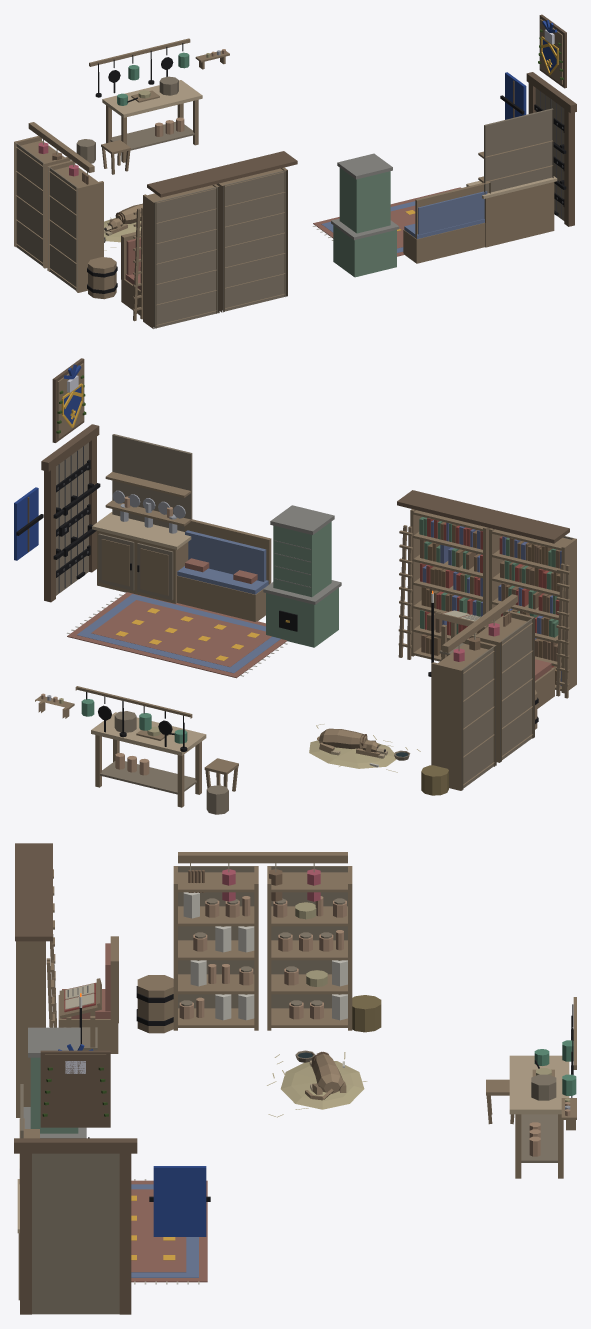
File: wohnstube_innen.glb
The picture shows the model from 3 angles, top to bottom: view 1: azimuth 30°, elevation 25°; view 2: azimuth 150°, elevation 25°; view 3: azimuth 270°, elevation 25°; orthographic projection. The views are drawn at different scales.
Parts seen in each view (by area): view 1: Einrichtung_Bibliothek, Einrichtung_Stube, Einrichtung_Vorratskammer, Einrichtung_Kueche, Einrichtung_Riegel, Einrichtung_Hauswappen, Einrichtung_Hund; view 2: Einrichtung_Stube, Einrichtung_Bibliothek, Einrichtung_Vorratskammer, Einrichtung_Riegel, Einrichtung_Kueche, Einrichtung_Hund, Einrichtung_Hauswappen; view 3: Einrichtung_Vorratskammer, Einrichtung_Riegel, Einrichtung_Bibliothek, Einrichtung_Stube, Einrichtung_Kueche, Einrichtung_Hauswappen, Einrichtung_Hund.
Part boxes in pixels (x1=…): Einrichtung_Bibliothek: x1=121, y1=151, x2=297, y2=328; Einrichtung_Stube: x1=313, y1=108, x2=557, y2=277; Einrichtung_Vorratskammer: x1=14, y1=122, x2=117, y2=299; Einrichtung_Kueche: x1=76, y1=38, x2=229, y2=174; Einrichtung_Riegel: x1=500, y1=72, x2=576, y2=226; Einrichtung_Hauswappen: x1=538, y1=14, x2=566, y2=88; Einrichtung_Hund: x1=104, y1=203, x2=142, y2=250; Einrichtung_Stube: x1=67, y1=434, x2=341, y2=678; Einrichtung_Bibliothek: x1=397, y1=490, x2=576, y2=708; Einrichtung_Vorratskammer: x1=421, y1=594, x2=538, y2=795; Einrichtung_Riegel: x1=14, y1=424, x2=100, y2=602; Einrichtung_Kueche: x1=35, y1=686, x2=238, y2=814; Einrichtung_Hund: x1=309, y1=724, x2=420, y2=772; Einrichtung_Hauswappen: x1=52, y1=358, x2=86, y2=442; Einrichtung_Vorratskammer: x1=136, y1=852, x2=381, y2=1033; Einrichtung_Riegel: x1=14, y1=1138, x2=210, y2=1314; Einrichtung_Bibliothek: x1=15, y1=843, x2=118, y2=1117; Einrichtung_Stube: x1=17, y1=1027, x2=207, y2=1300; Einrichtung_Kueche: x1=486, y1=997, x2=576, y2=1178; Einrichtung_Hauswappen: x1=40, y1=1044, x2=110, y2=1127; Einrichtung_Hund: x1=267, y1=1050, x2=367, y2=1117.
Size of the model in its own units: 8.4 by 3.46 by 6.62.
